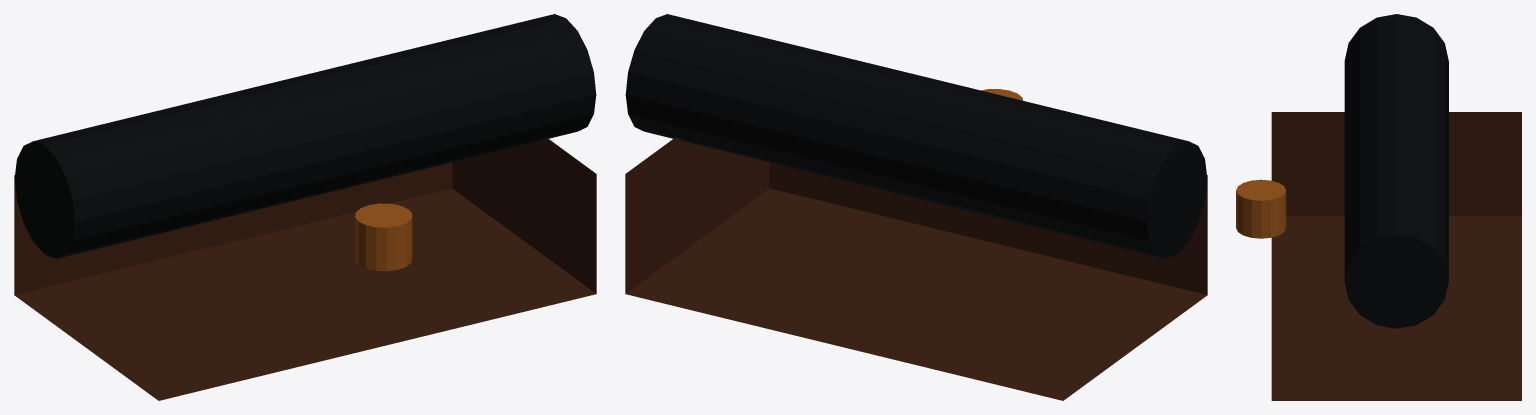
The picture shows the model from 3 angles, left to right: view 1: azimuth 30°, elevation 25°; view 2: azimuth 150°, elevation 25°; view 3: azimuth 270°, elevation 25°; orthographic projection. The views are drawn at different scales.
Parts seen in each view (by area): view 1: dark_wood, rubber, brass; view 2: dark_wood, rubber; view 3: dark_wood, rubber, brass.
Part boxes in pixels (x1=…): dark_wood: x1=14, y1=137, x2=596, y2=400; rubber: x1=14, y1=14, x2=596, y2=258; brass: x1=355, y1=203, x2=412, y2=271; dark_wood: x1=625, y1=137, x2=1207, y2=400; rubber: x1=625, y1=14, x2=1207, y2=258; dark_wood: x1=1271, y1=112, x2=1521, y2=400; rubber: x1=1344, y1=14, x2=1448, y2=328; brass: x1=1236, y1=179, x2=1286, y2=238.
Bounding box in the file's own units: 2.5 × 0.975 × 1.37.
